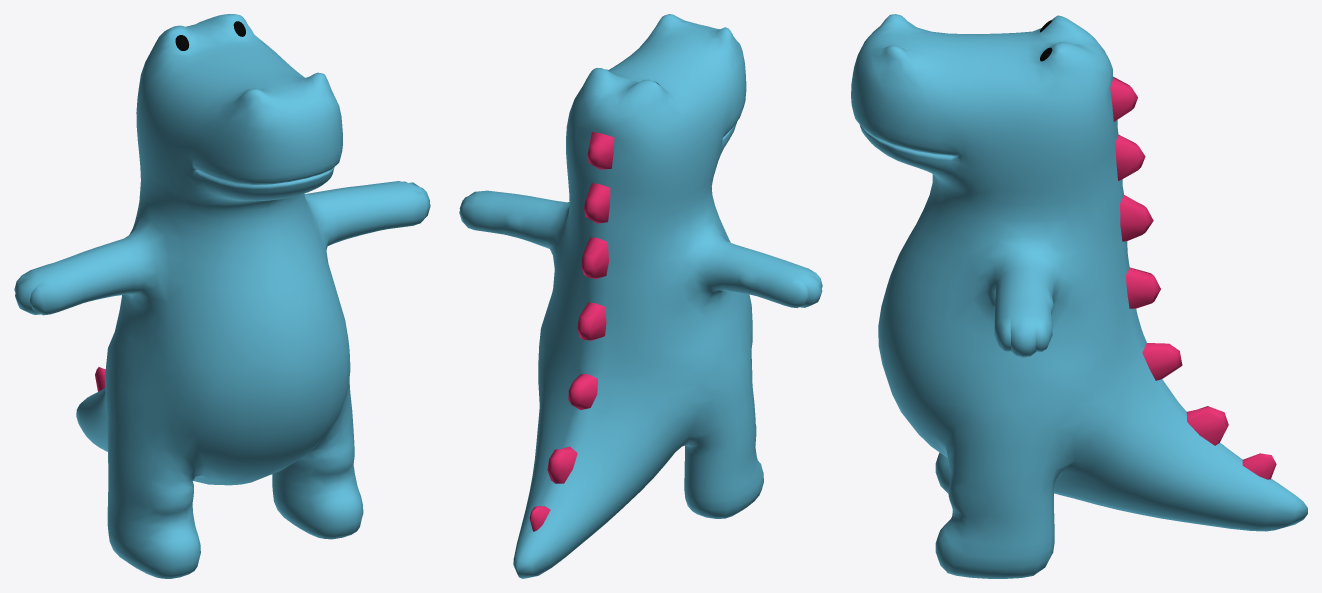
File: Mochi 19.fbx
3 renders of one model, left to right at view 1: azimuth 30°, elevation 25°; view 2: azimuth 150°, elevation 25°; view 3: azimuth 270°, elevation 25°, orthographic. The views are drawn at different scales.
Parts seen in each view (by area): view 1: Mochi 19; view 2: Mochi 19; view 3: Mochi 19.
Part boxes in pixels (x1,y1,x2,y2): Mochi 19: (14, 14, 430, 578); Mochi 19: (459, 14, 822, 578); Mochi 19: (851, 14, 1307, 578).
Bounding box in the file's own units: 188 × 218 × 180.
